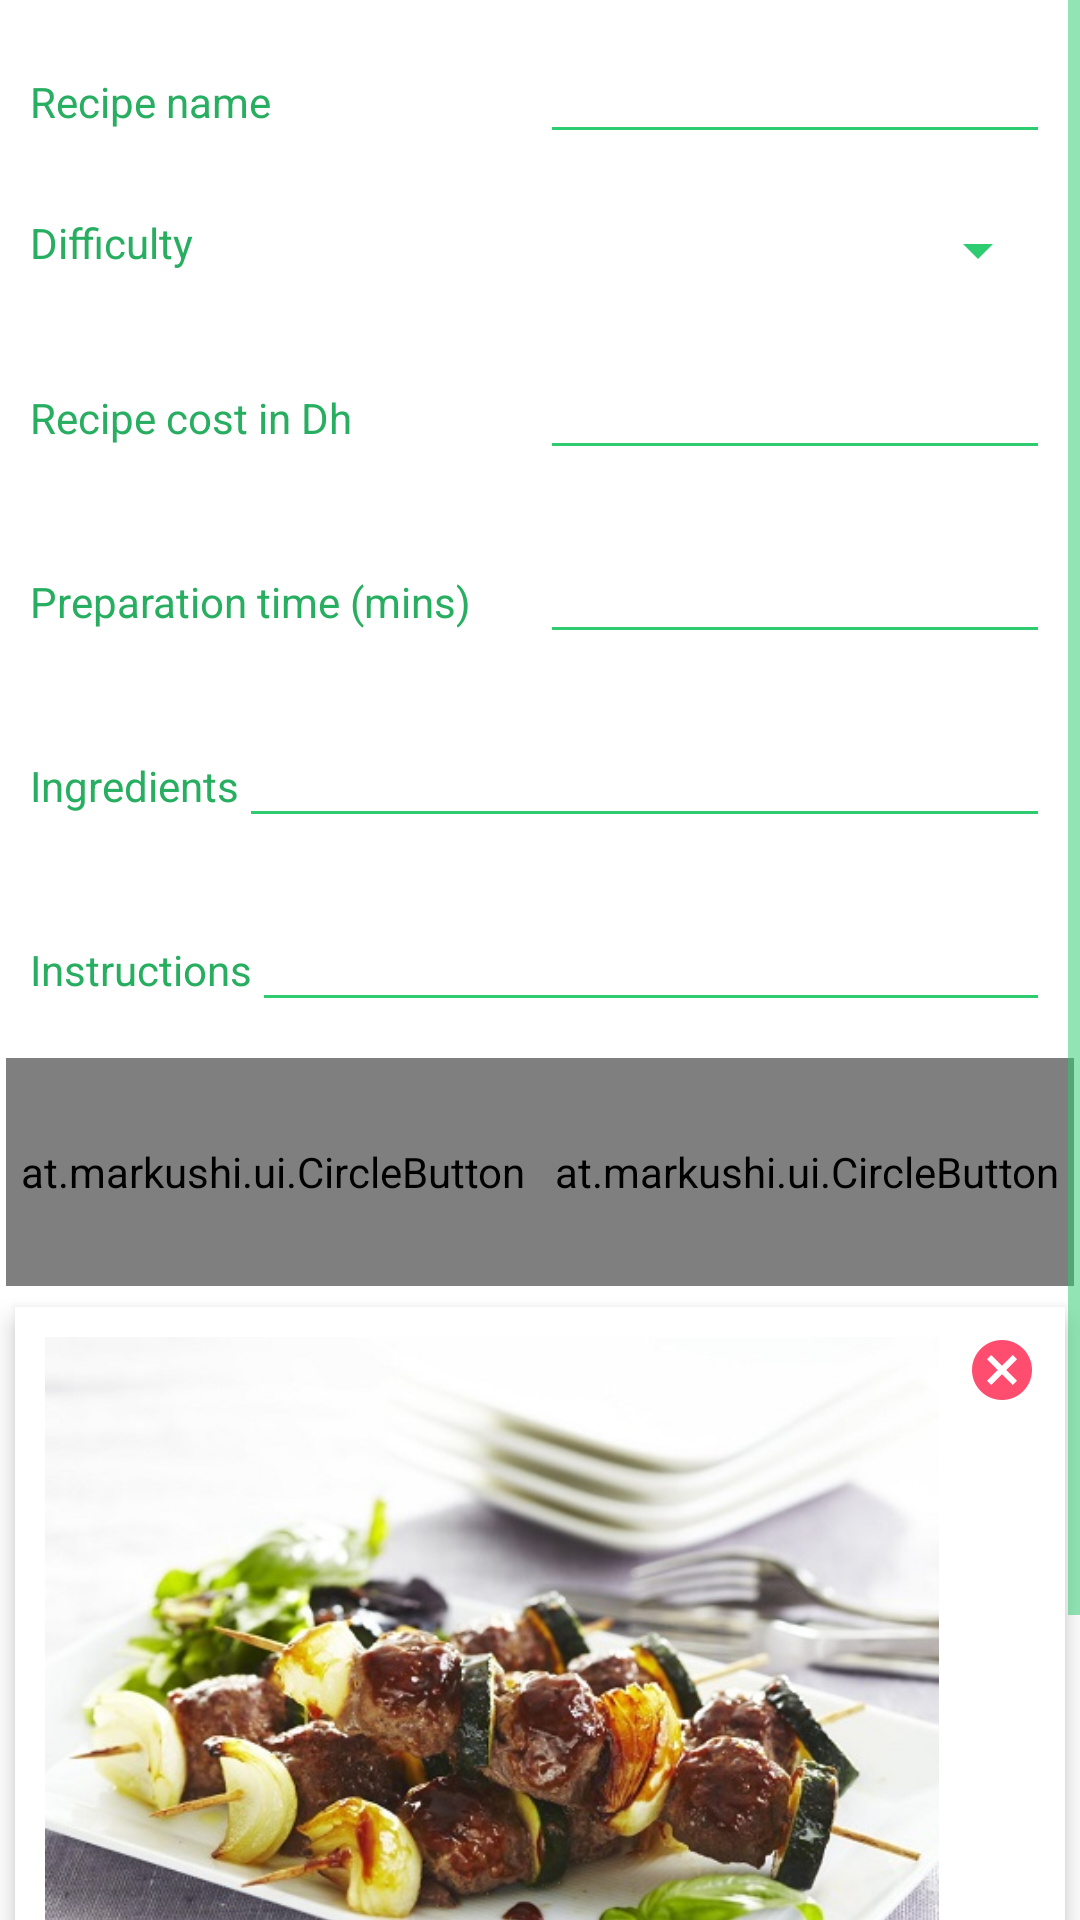

Screen size 1080*1920. Icon name, then its center in pixels as point (x, y):
cancel: point (1002, 1370)
